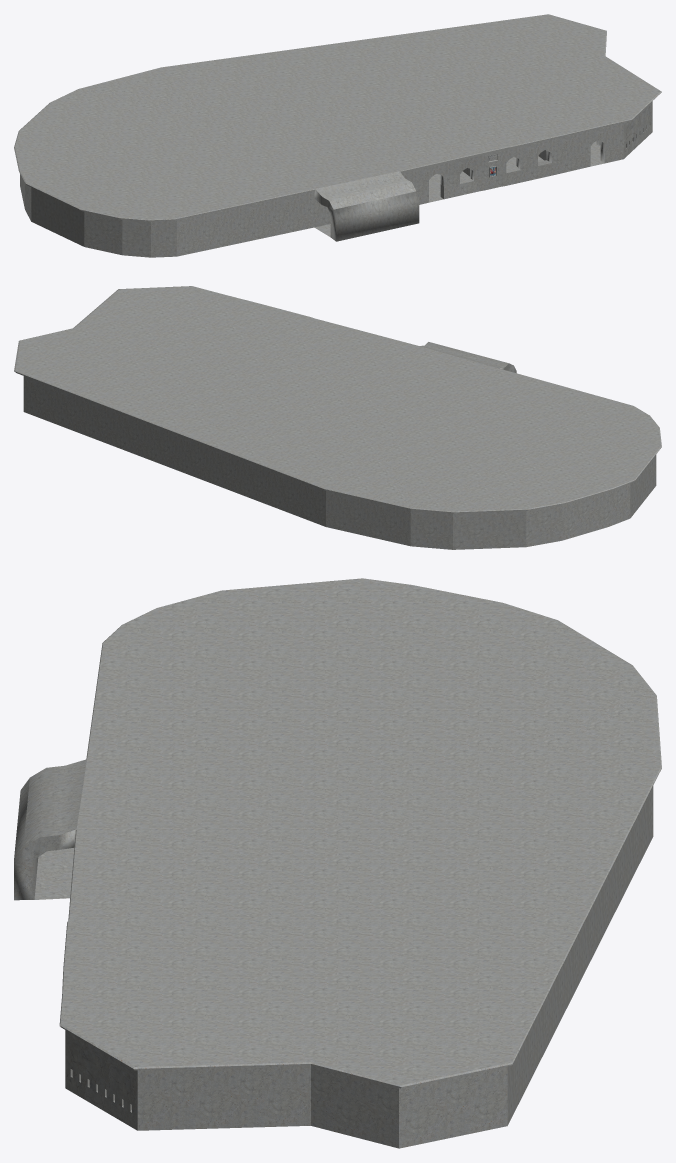
File: Main house.fbx
3 renders of one model, top to bottom at view 1: azimuth 30°, elevation 25°; view 2: azimuth 150°, elevation 25°; view 3: azimuth 270°, elevation 25°, orthographic. The views are drawn at different scales.
Parts seen in each view (by area): view 1: Circle; view 2: Circle; view 3: Circle.
Boxes of the visible parts, x1=… form: Circle: x1=14, y1=14, x2=661, y2=257; Circle: x1=14, y1=286, x2=661, y2=549; Circle: x1=14, y1=578, x2=661, y2=1148.
Bounding box in the file's own units: 7152 × 456 × 3849.
